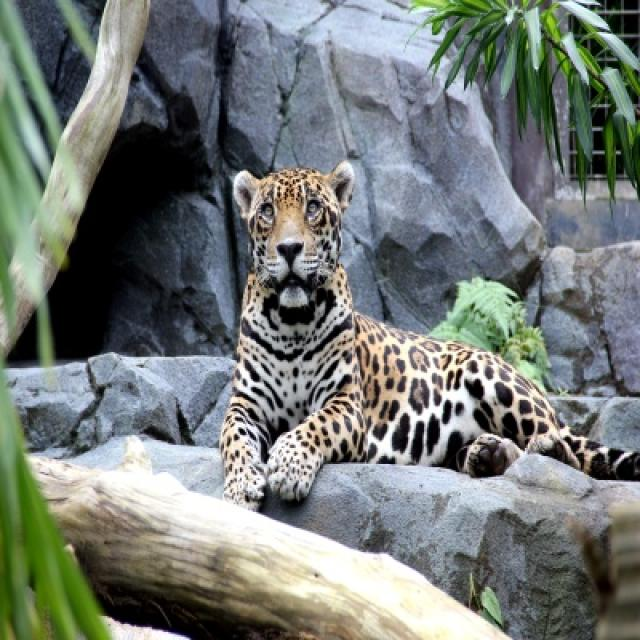Jaguar: (219, 160, 638, 512)
